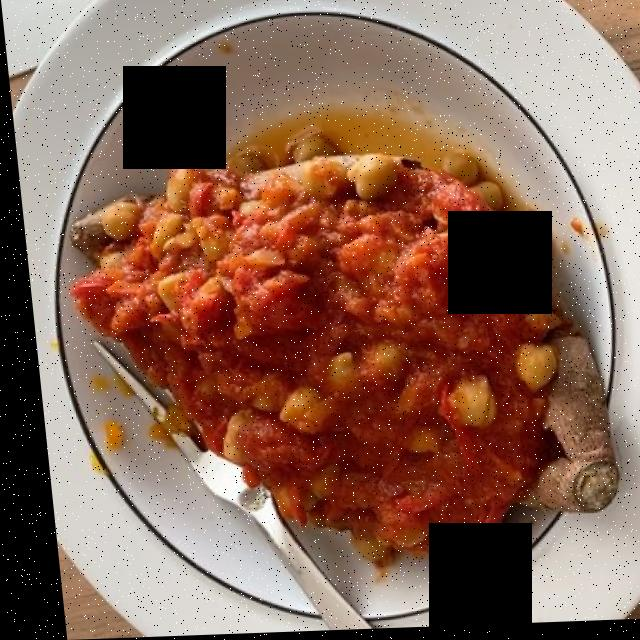sweet-potato: (79, 138, 571, 558)
tomato-sauce: (53, 178, 519, 575)
